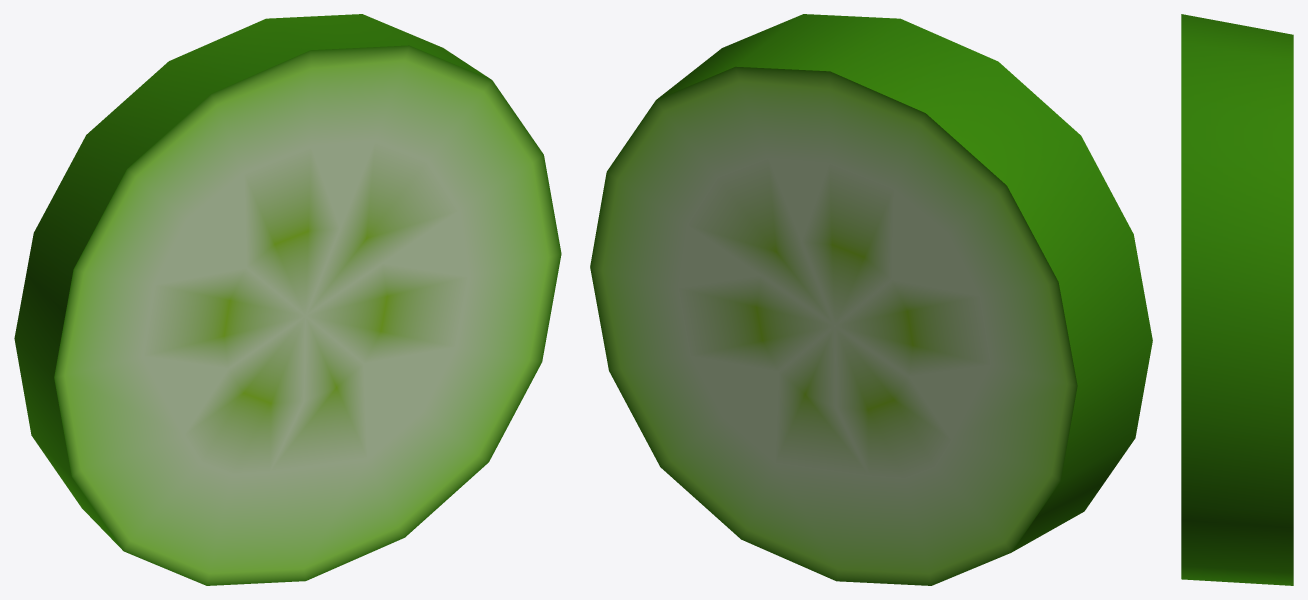
The model's file is Cucumber_Slice_16.fbx.
The picture shows the model from 3 angles, left to right: view 1: azimuth 30°, elevation 25°; view 2: azimuth 150°, elevation 25°; view 3: azimuth 270°, elevation 25°; orthographic projection. The views are drawn at different scales.
Visible parts, largest first — view 1: Cucumber_Slice_16; view 2: Cucumber_Slice_16; view 3: Cucumber_Slice_16.
Boxes of the visible parts, box(x1,y1,x2,y2) form: Cucumber_Slice_16: box(14, 14, 561, 585); Cucumber_Slice_16: box(590, 14, 1152, 585); Cucumber_Slice_16: box(1181, 14, 1293, 585).
Size of the model in its own units: 4.39 by 4.34 by 0.8597.
